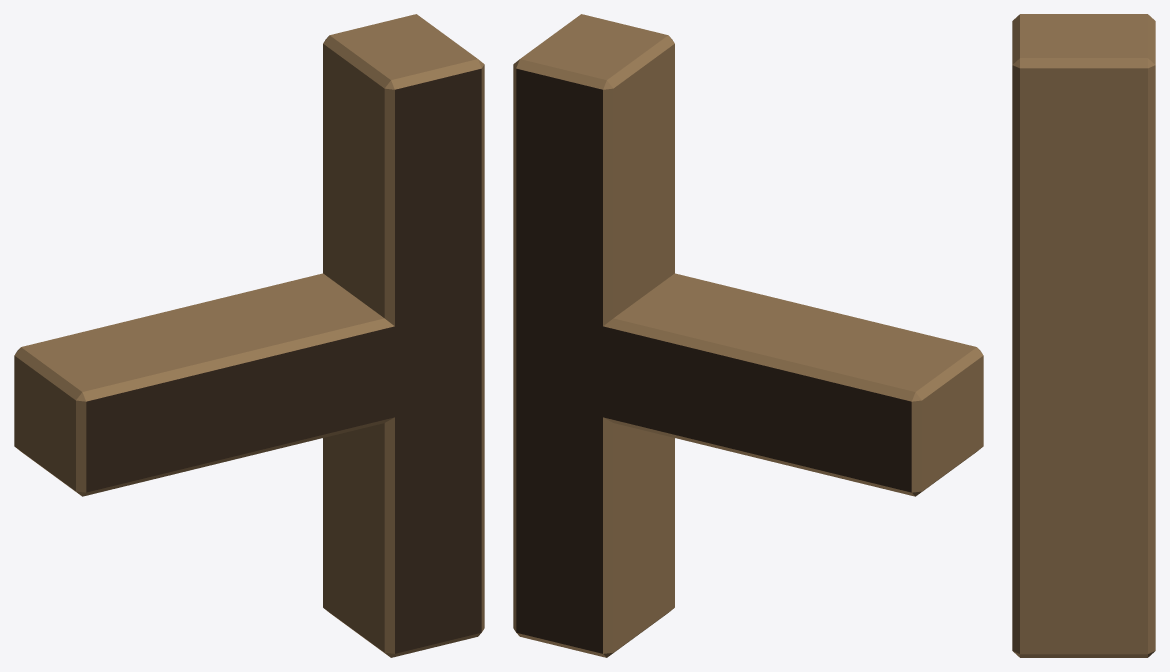
3 renders of one model, left to right at view 1: azimuth 30°, elevation 25°; view 2: azimuth 150°, elevation 25°; view 3: azimuth 270°, elevation 25°, orthographic. The views are drawn at different scales.
Visible parts, largest first — view 1: Glyph; view 2: Glyph; view 3: Glyph.
Boxes of the visible parts, x1,y1,x2,y2 form: Glyph: (14,14,484,657); Glyph: (513,14,983,657); Glyph: (1012,14,1155,657).
Bounding box in the file's own units: 0.376 × 0.508 × 0.11.
